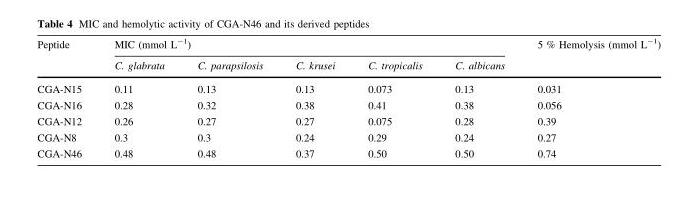table: (36, 37, 660, 158)
table column: (520, 37, 660, 158), (180, 37, 278, 158), (350, 37, 438, 158), (97, 37, 180, 158), (438, 37, 520, 158), (278, 37, 350, 158), (36, 37, 97, 158)
table column header: (36, 37, 660, 77)
table row: (36, 55, 660, 77), (36, 77, 660, 97), (36, 37, 660, 55), (36, 97, 660, 113), (36, 113, 660, 129), (36, 129, 660, 145), (36, 145, 660, 158)
table spanning cell: (97, 37, 520, 55), (520, 37, 660, 77), (36, 37, 97, 77)
